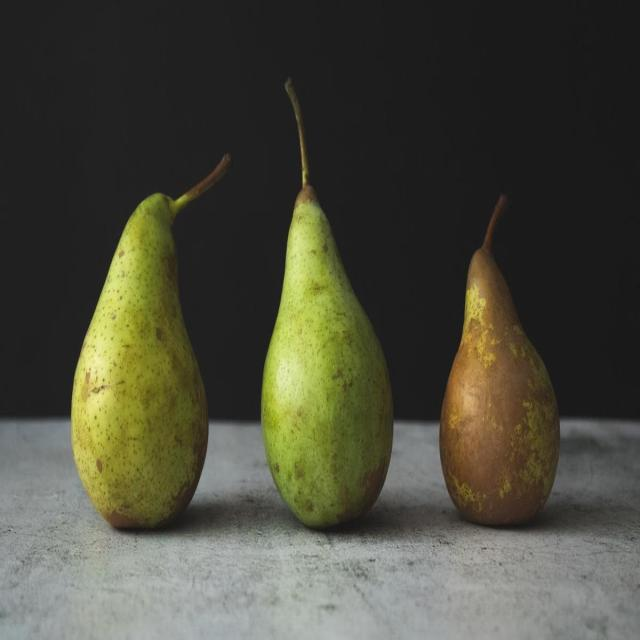pera: (59, 126, 232, 560)
